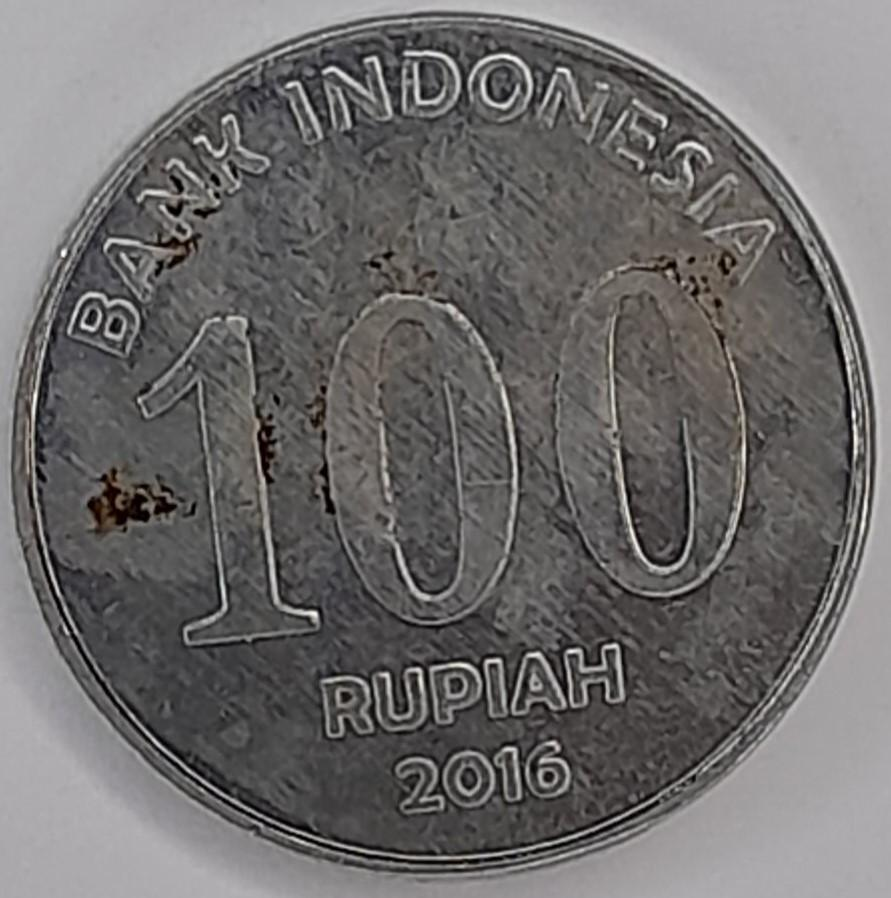coin_100_e2016: (4, 4, 883, 878)
